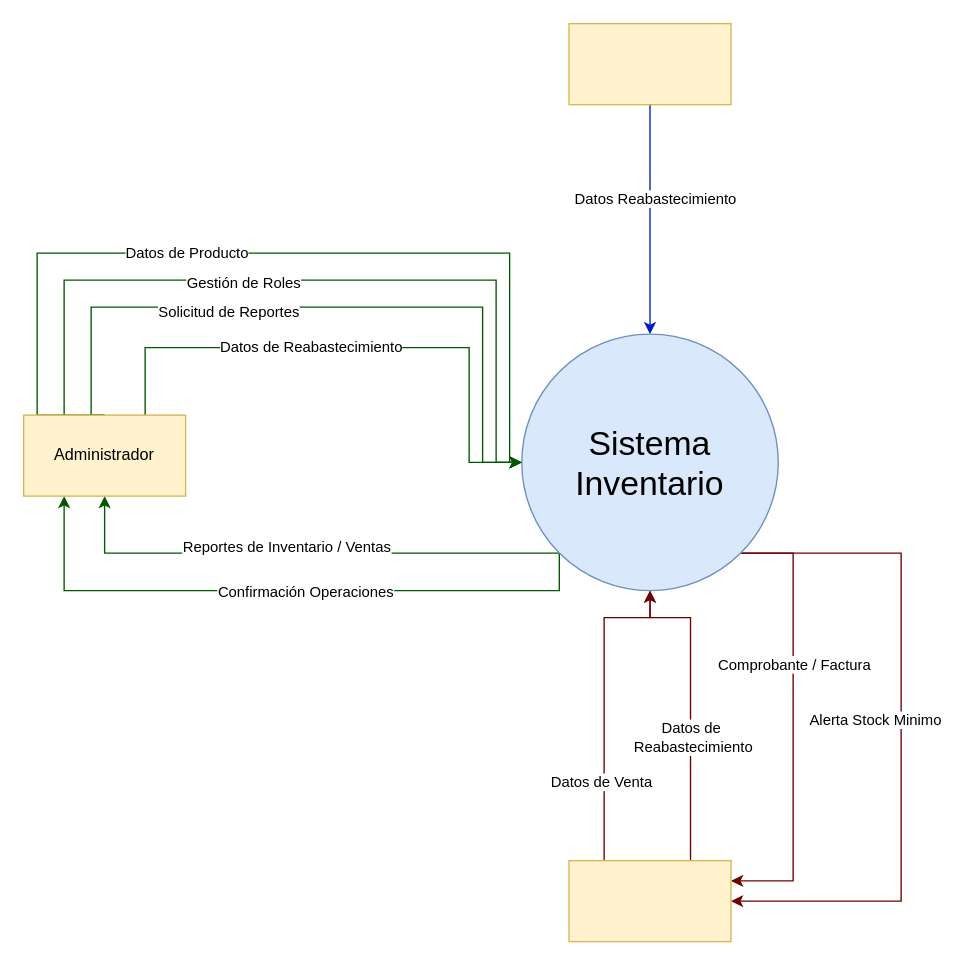
Some shapes in this 964 by 965 pixel diagram are drawn without their labels. The box of each missing label's shape, as (x1, y1, x2, y2) in pixels:
Proveedor: (568, 22, 731, 105)
Vendedor: (568, 859, 731, 942)
